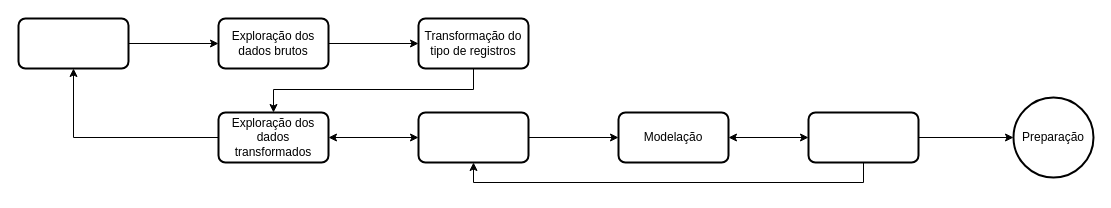
The diagram is 1111 pixels wide and 208 high, and some of its shapes have lost their labels. The shapes that lost their labels are listed below. From the top down, each one's centre as x and y in pixels, then its label:
At pixel 73 43: "Contextualização".
At pixel 473 137: "Criação/ Transformação de recursos".
At pixel 863 137: "Avaliação".
